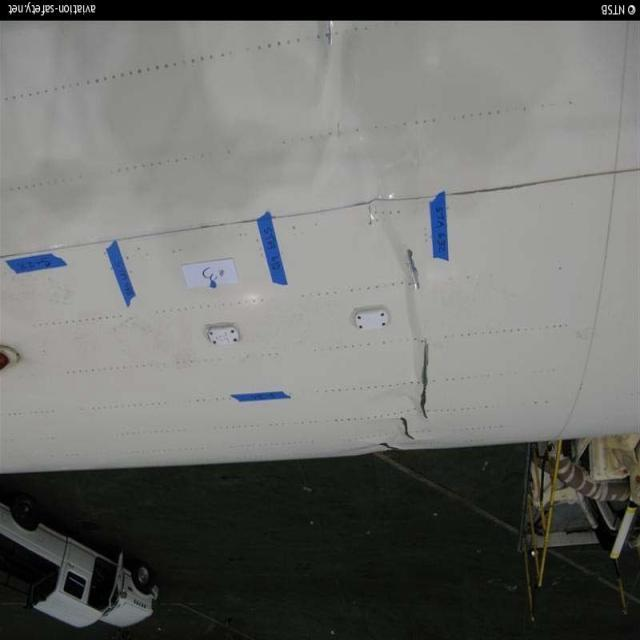crack: (417, 336, 434, 429), (406, 248, 422, 300), (396, 416, 416, 446)
